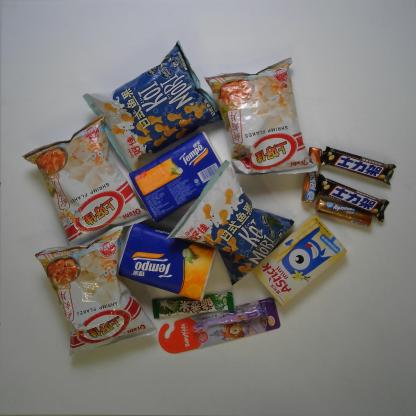Candy: (314, 195, 373, 228), (300, 146, 324, 206)
Chocolate: (315, 173, 390, 223), (319, 145, 397, 187), (150, 290, 235, 320)
Dessert: (250, 212, 348, 309)
Personal Hygiene: (157, 296, 283, 354)
Puffed Food: (81, 39, 224, 175), (20, 110, 153, 249), (165, 158, 295, 288), (33, 224, 159, 358), (203, 55, 319, 178)
Tissue: (126, 129, 225, 224), (116, 222, 218, 303)
